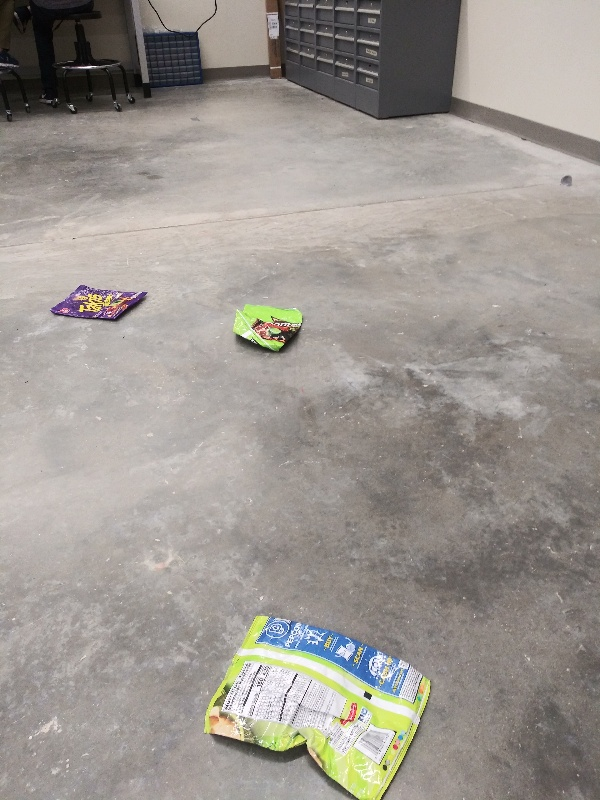bag: (205, 607, 436, 792), (223, 298, 308, 357), (47, 282, 151, 325)
